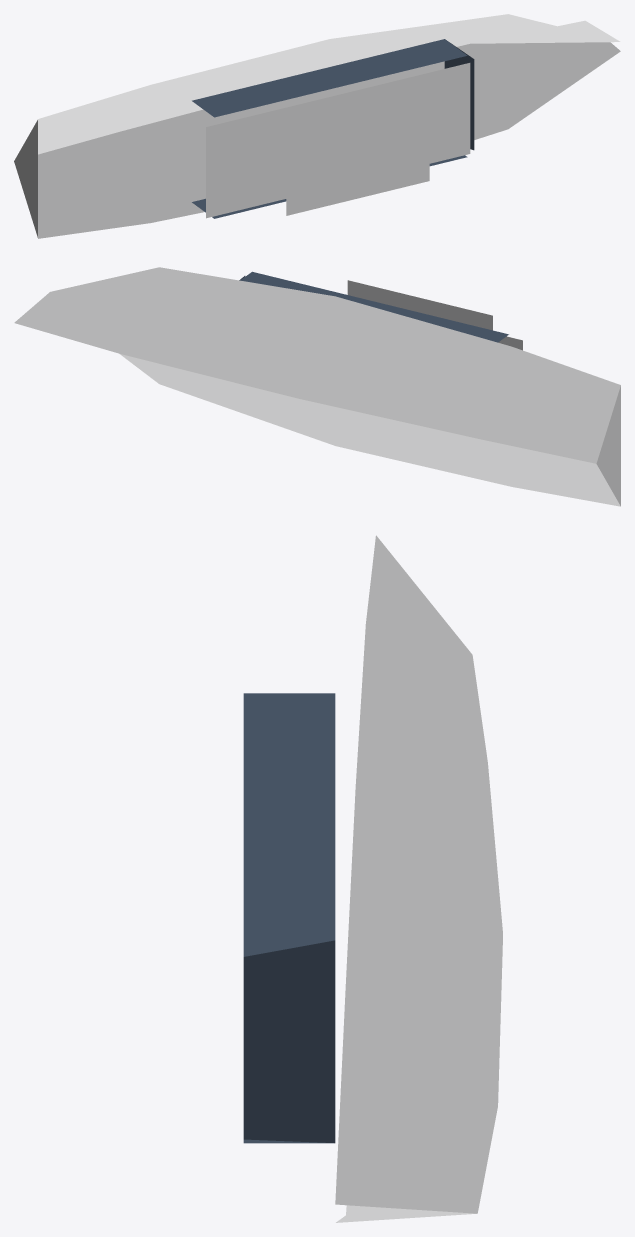
File: yacht.glb
3 renders of one model, top to bottom at view 1: azimuth 30°, elevation 25°; view 2: azimuth 150°, elevation 25°; view 3: azimuth 270°, elevation 25°, orthographic. The views are drawn at different scales.
Parts seen in each view (by area): view 1: RootVessel; view 2: RootVessel; view 3: RootVessel.
Part boxes in pixels (x1,y1,x2,y2): RootVessel: [14, 14, 620, 238]; RootVessel: [14, 267, 620, 506]; RootVessel: [243, 535, 502, 1222].
Bounding box in the file's own units: 26 × 6.4 × 7.3.
